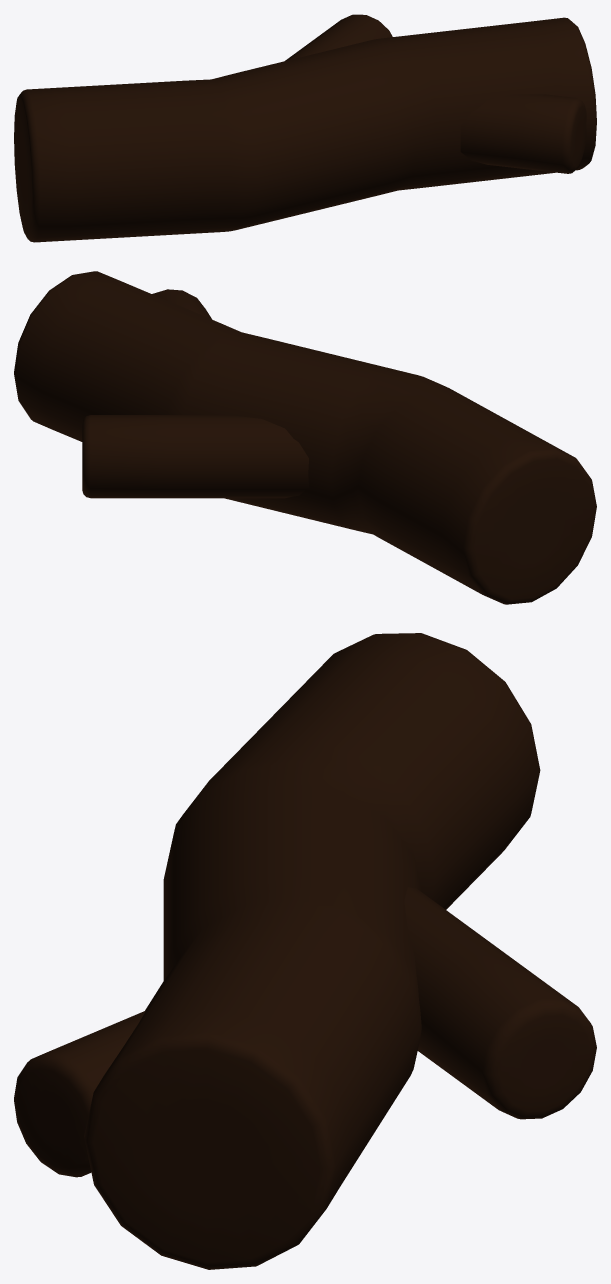
The model's file is LastLuna_Model_Item_Driftwood.fbx.
The picture shows the model from 3 angles, top to bottom: view 1: azimuth 30°, elevation 25°; view 2: azimuth 150°, elevation 25°; view 3: azimuth 270°, elevation 25°; orthographic projection. The views are drawn at different scales.
Visible parts, largest first — view 1: Wood_Log001; view 2: Wood_Log001; view 3: Wood_Log001.
Boxes of the visible parts, x1,y1,x2,y2 form: Wood_Log001: (14,14,596,242); Wood_Log001: (14,271,596,604); Wood_Log001: (14,633,596,1269).
Size of the model in its own units: 79.98 by 20 by 44.69.
